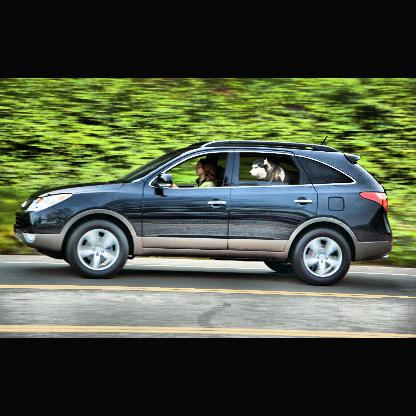Hyundai Veracruz SUV 2012: (15, 137, 394, 285)
